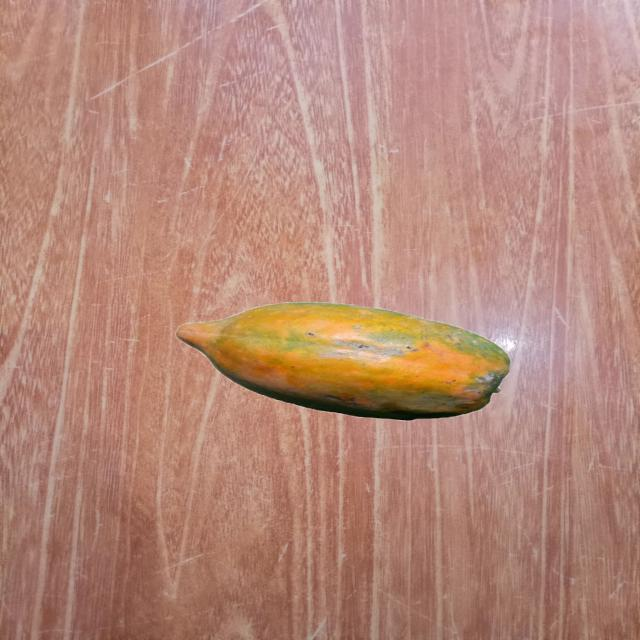Pepaya rippen: (173, 292, 523, 422)
